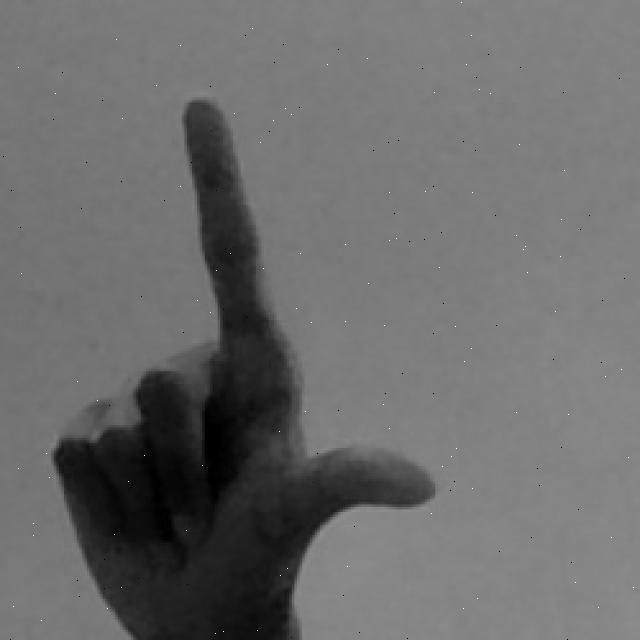L: (51, 84, 443, 640)
